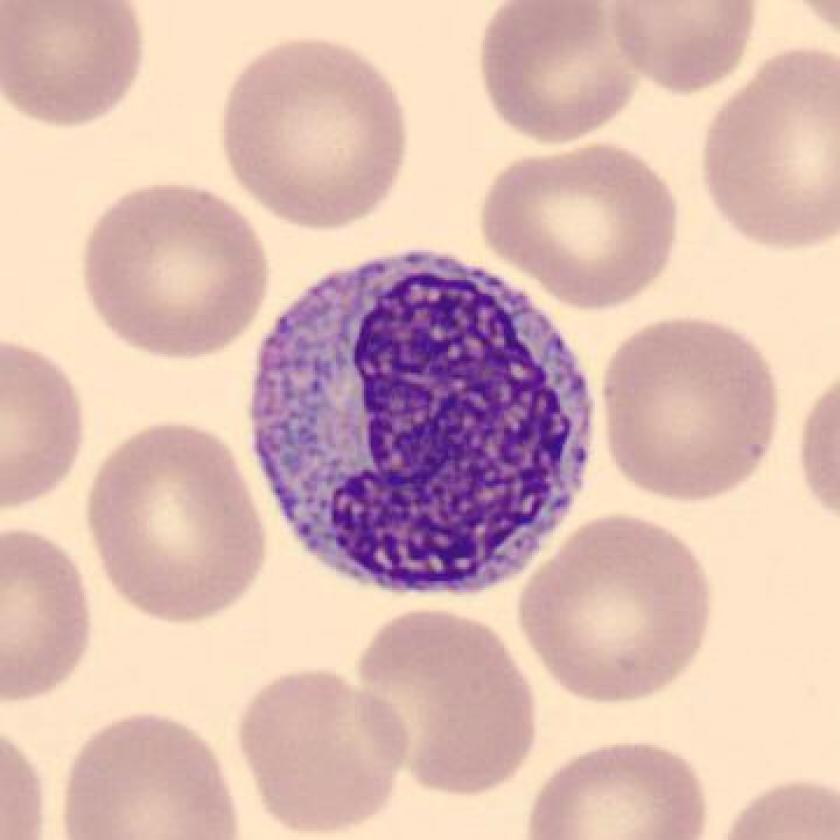monocyte: (237, 240, 612, 617)
